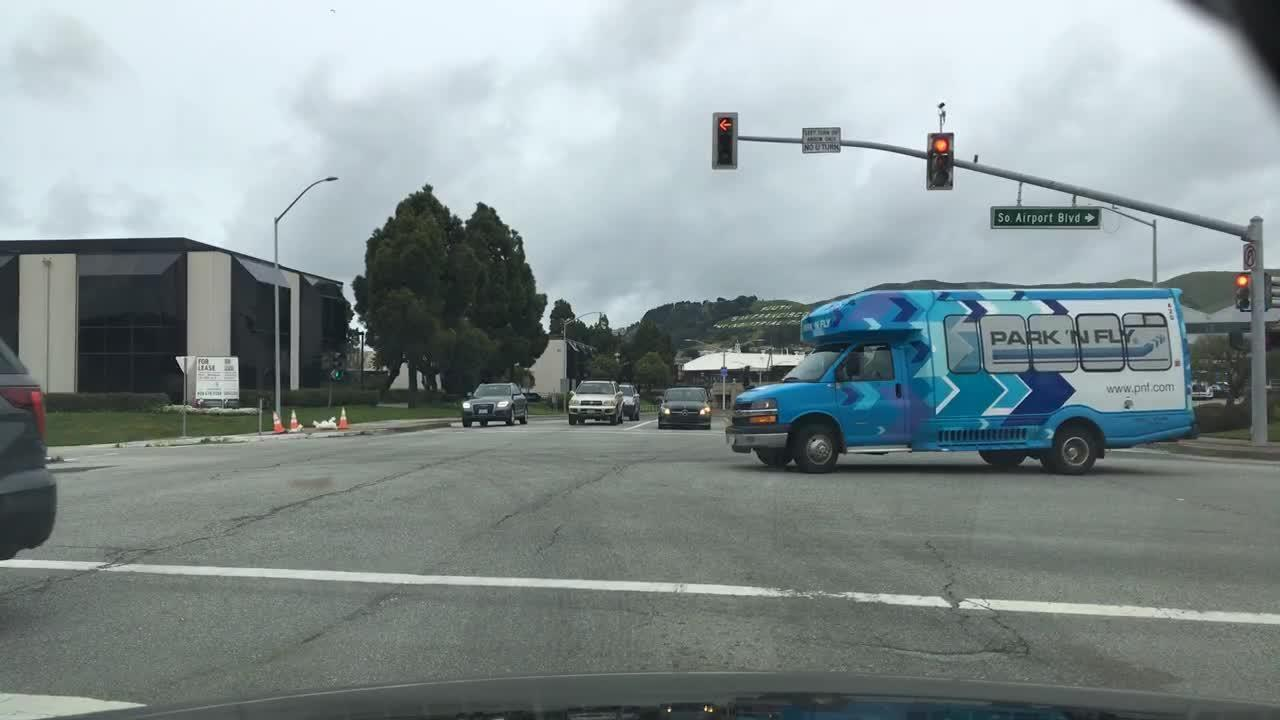Mercedes: (680, 407, 692, 418)
